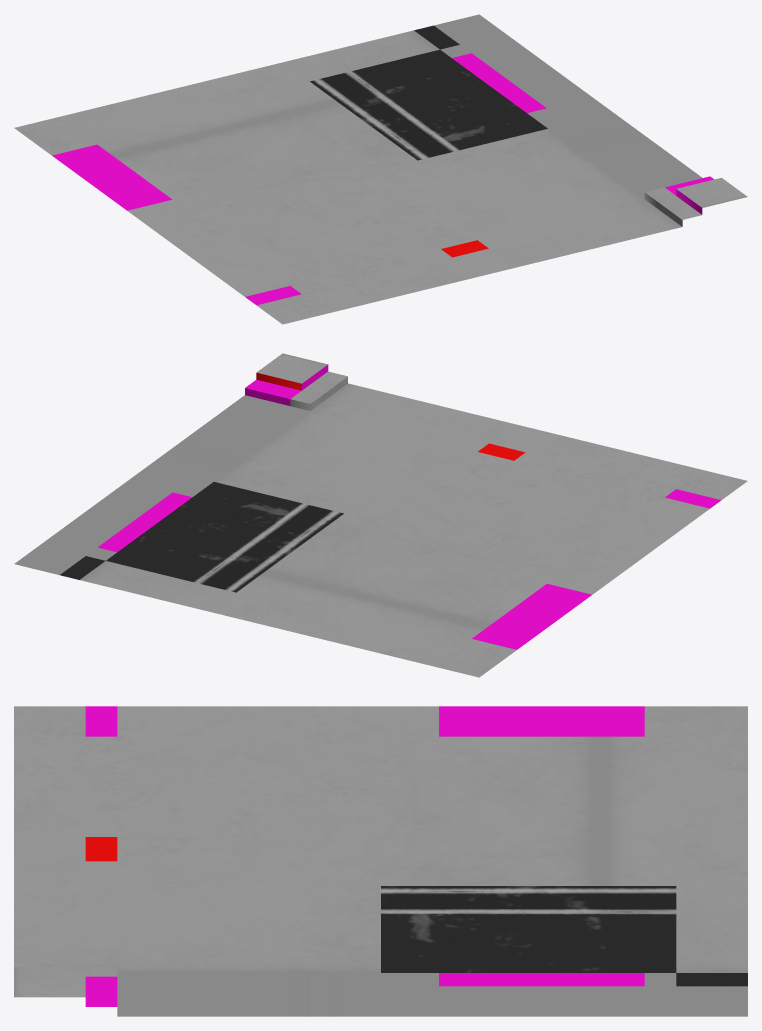
The model's file is Floor-CornerIn.fbx.
3 renders of one model, top to bottom at view 1: azimuth 30°, elevation 25°; view 2: azimuth 150°, elevation 25°; view 3: azimuth 270°, elevation 25°, orthographic. The views are drawn at different scales.
Parts seen in each view (by area): view 1: CornerIn; view 2: CornerIn; view 3: CornerIn.
Boxes of the visible parts, x1=… form: CornerIn: x1=14, y1=14, x2=747, y2=324; CornerIn: x1=14, y1=353, x2=747, y2=677; CornerIn: x1=14, y1=706, x2=747, y2=1016.
Size of the model in its own units: 78.74 by 2.28 by 78.74.
Materials: 4 (2 with a texture image).
